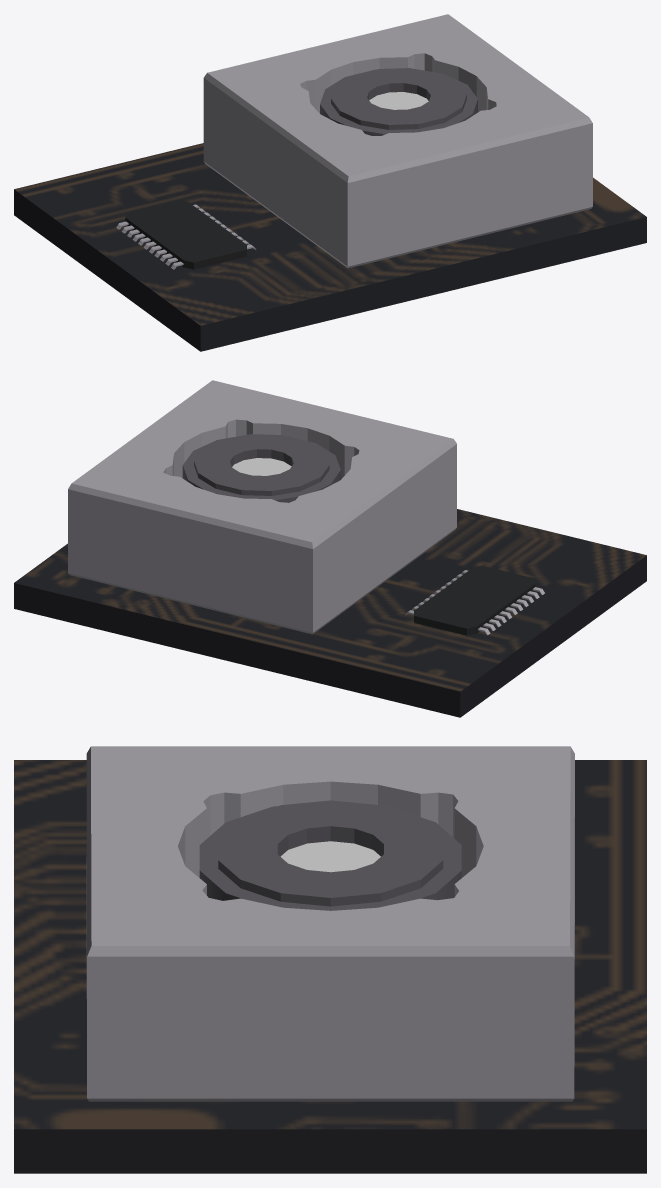
File: Camera module.fbx
3 views of the same model, one above another, from view 1: azimuth 30°, elevation 25°; view 2: azimuth 150°, elevation 25°; view 3: azimuth 270°, elevation 25° (orthographic). The views are drawn at different scales.
Parts seen in each view (by area): view 1: camera_module; view 2: camera_module; view 3: camera_module.
Part boxes in pixels (x1,y1,x2,y2): camera_module: (14, 14, 646, 351); camera_module: (14, 380, 646, 717); camera_module: (14, 746, 646, 1173).
Bounding box in the file's own units: 0.9627 × 0.2418 × 0.6972.
